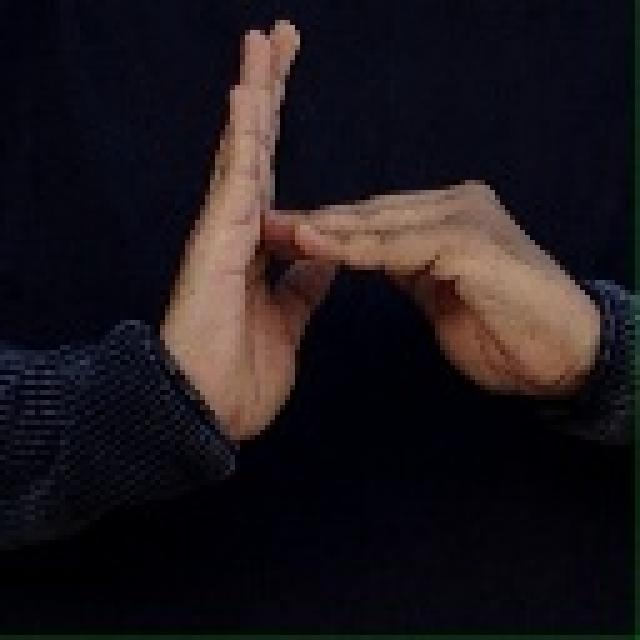Alphabet-Z: (158, 19, 607, 463)
